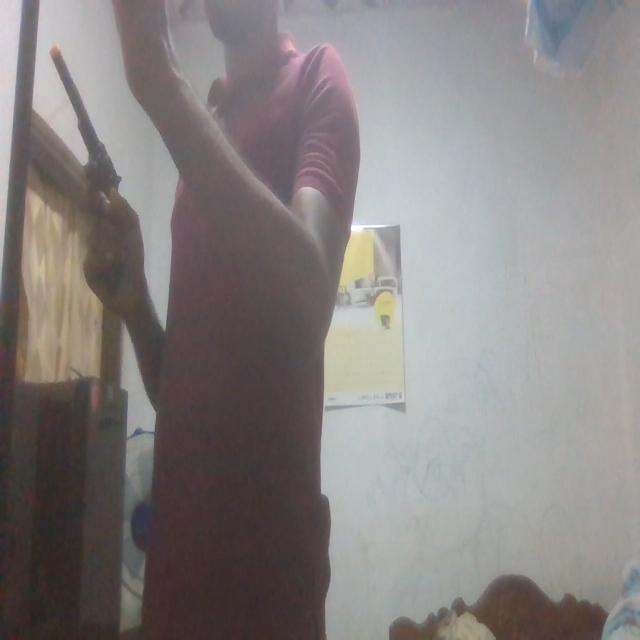Gun_Holder: (46, 47, 134, 272)
Person: (85, 0, 357, 640)
